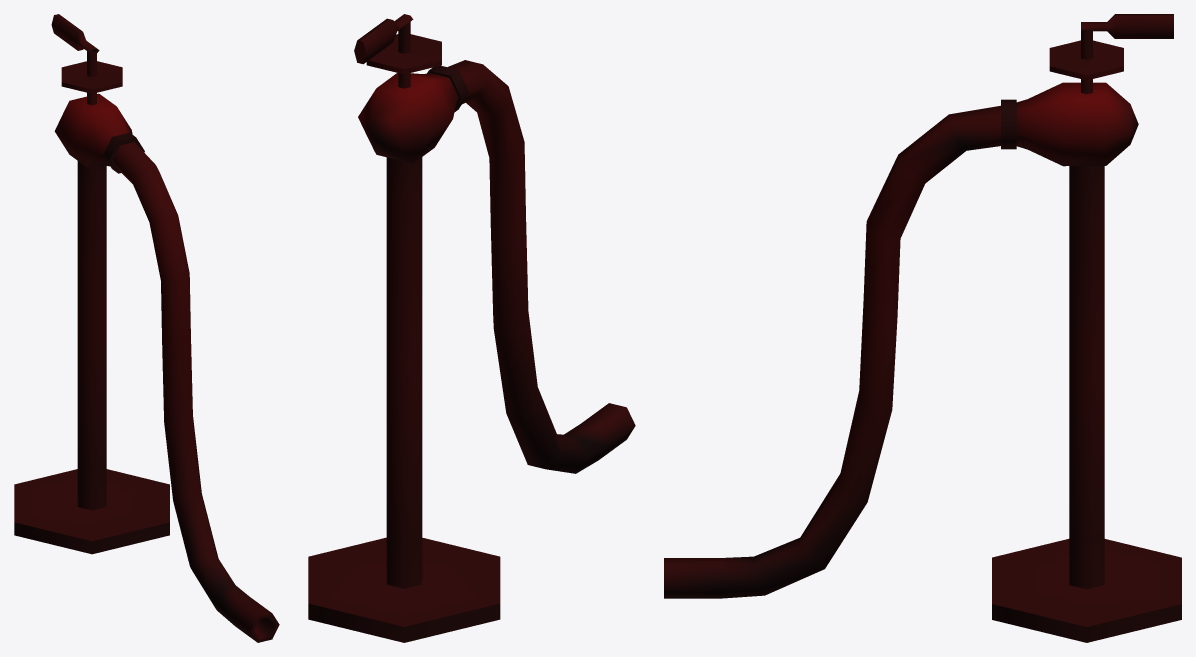
Rendered from GasPipe.glb.
3 views of the same model, side by side, from view 1: azimuth 30°, elevation 25°; view 2: azimuth 150°, elevation 25°; view 3: azimuth 270°, elevation 25° (orthographic). The views are drawn at different scales.
Visible parts, largest first — view 1: GasPipe; view 2: GasPipe; view 3: GasPipe.
Boxes of the visible parts, <box> form: GasPipe: <box>14,14,279,642</box>; GasPipe: <box>308,14,635,642</box>; GasPipe: <box>664,14,1181,642</box>.
Size of the model in its own units: 1.14 by 3.34 by 2.7.
